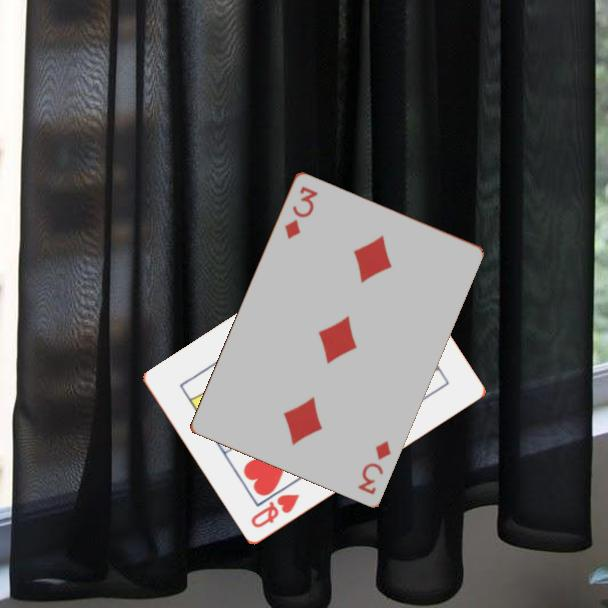d03: (281, 182, 321, 242), (354, 437, 394, 497)
h12: (247, 491, 302, 531)
